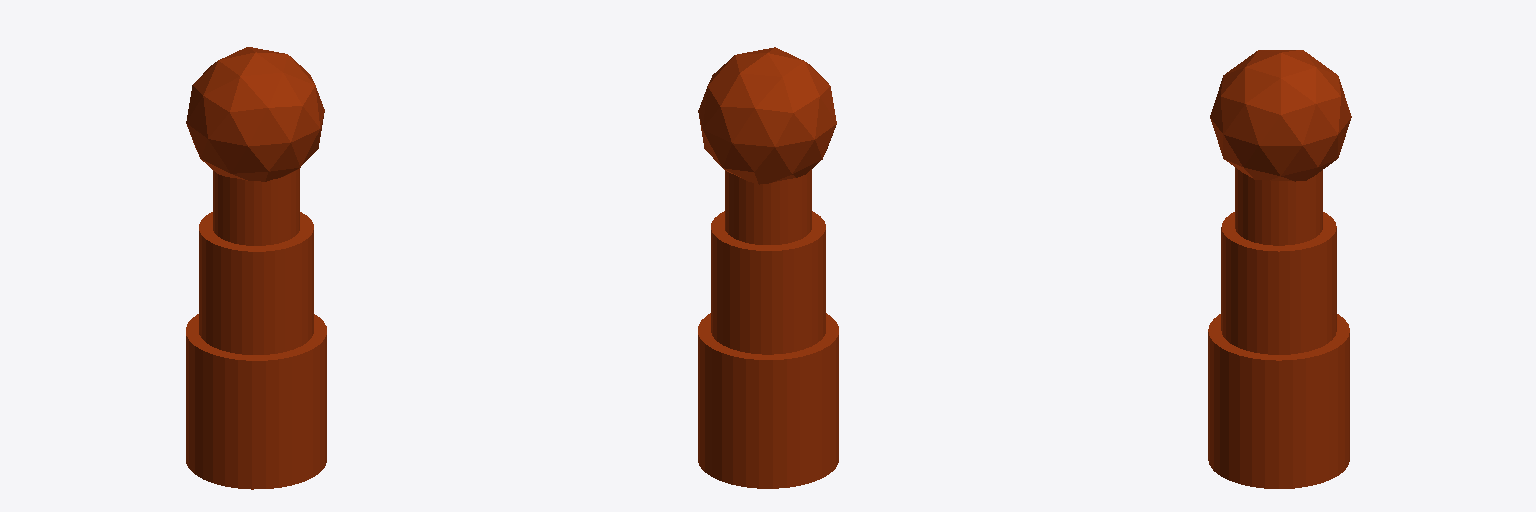
File: totem.obj
3 views of the same model, side by side, from view 1: azimuth 30°, elevation 25°; view 2: azimuth 150°, elevation 25°; view 3: azimuth 270°, elevation 25° (orthographic).
Parts seen in each view (by area): view 1: Cylinder, Icosphere, Cylinder.001, Cylinder.002; view 2: Cylinder, Icosphere, Cylinder.001, Cylinder.002; view 3: Cylinder, Icosphere, Cylinder.001, Cylinder.002.
Part boxes in pixels (x1,y1,x2,y2): Cylinder: (186,314,326,489); Icosphere: (186,47,324,181); Cylinder.001: (199,212,313,354); Cylinder.002: (213,168,299,245); Cylinder: (698,313,838,488); Icosphere: (698,47,836,184); Cylinder.001: (711,211,825,354); Cylinder.002: (725,169,811,244); Cylinder: (1208,314,1349,488); Icosphere: (1210,50,1351,181); Cylinder.001: (1221,212,1336,354); Cylinder.002: (1235,167,1322,245).
Size of the model in its own units: 20 by 63.21 by 20.24.